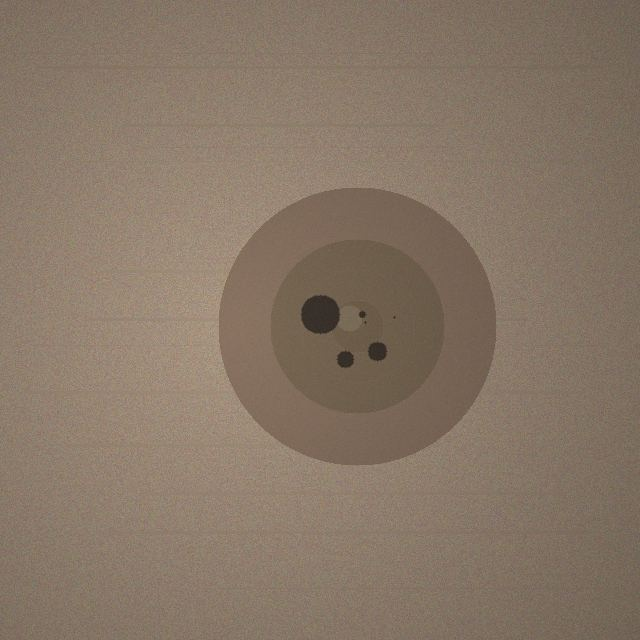shrinkage: (218, 187, 496, 465)
